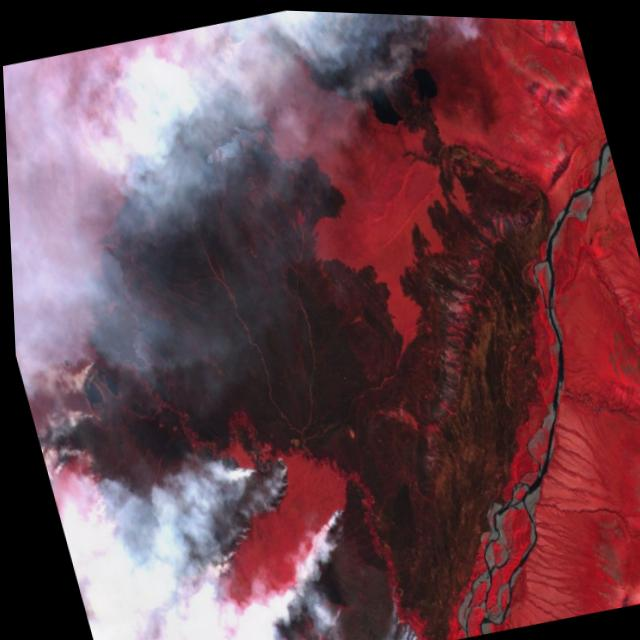fire: (162, 440, 312, 583), (27, 339, 119, 462), (278, 500, 361, 571), (376, 596, 418, 640), (317, 592, 345, 621), (283, 621, 322, 640)
